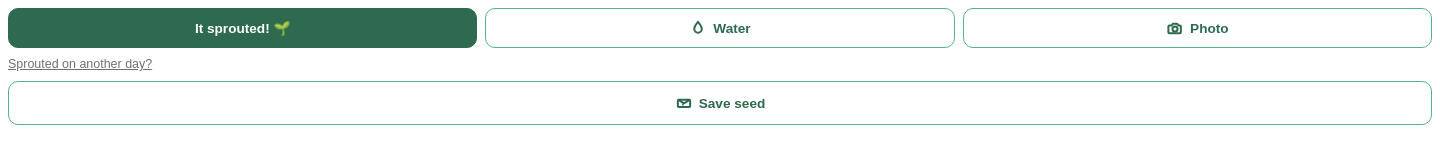
Test: BUG-GERMDATEBATCH-001 — the sprout tap sends its own date › the date affordance is ambient and opt-in — never a dialog, alert or toast (Reward-UX)
Click the button with aria-label "earlier date": (80, 64) left=8, top=55, right=152, bottom=73
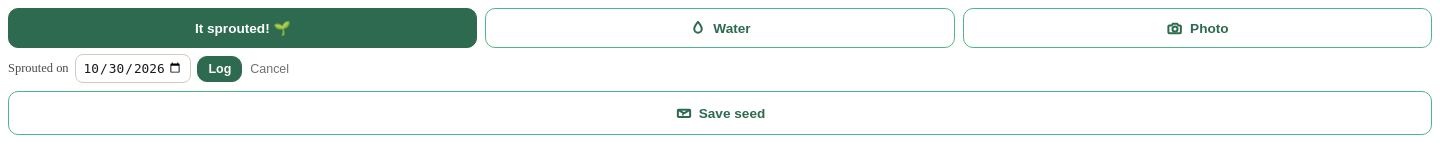
Now the date field labelled "Sprouted on" is shown, box left=75, top=54, right=191, bottom=83
